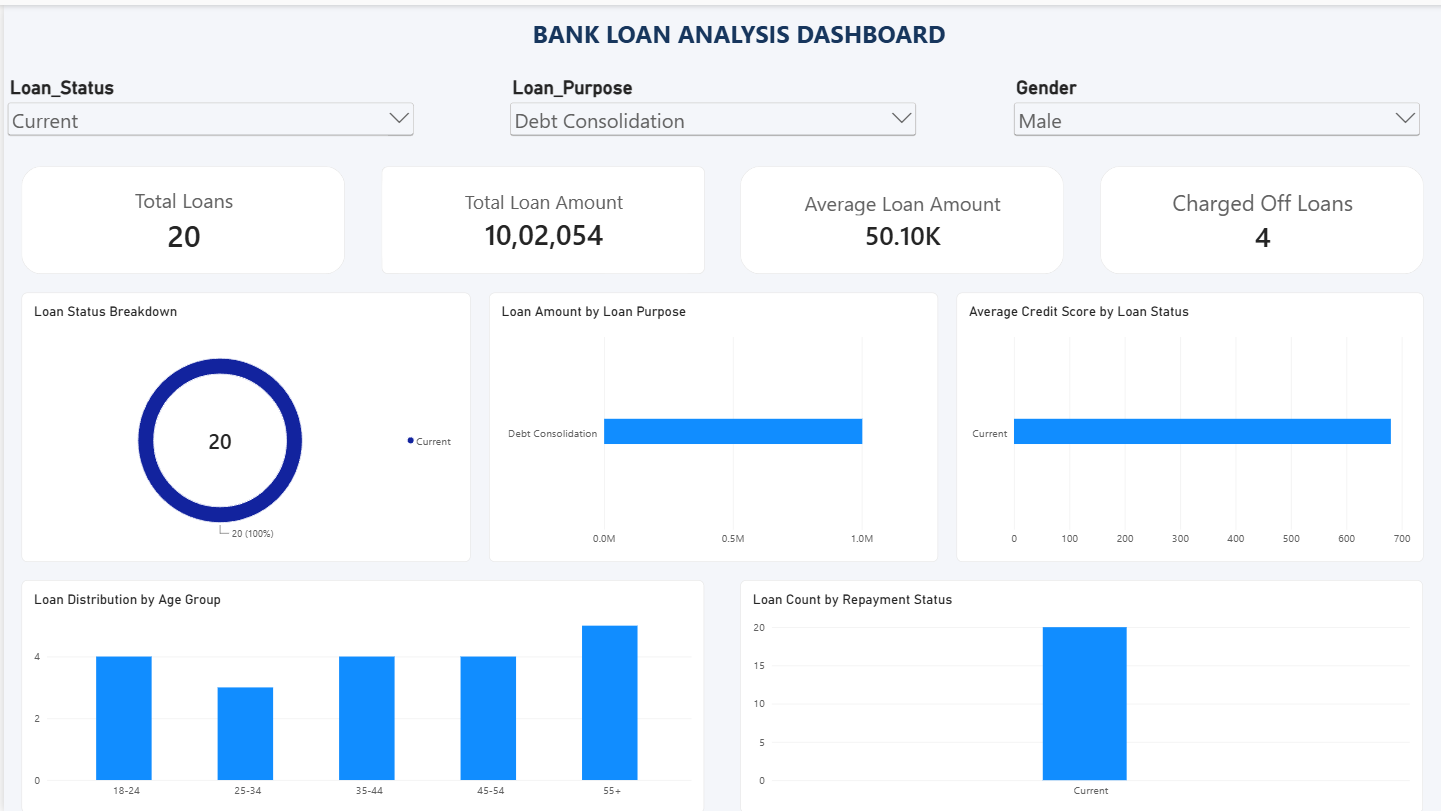

This screenshot's page, from the dashboard's own definition file:
{"tool":"powerbi","page":{"name":"Page 1","canvas":[1920,1080],"ordinal":0},"visuals":[{"type":"cardVisual","fields":{"Data":["Clean_Bank_Loan_Data.Total Loans"]},"box":[24,216,432,144],"z":0},{"type":"cardVisual","fields":{"Data":["Clean_Bank_Loan_Data.Total Loan Amount"]},"box":[504,216,432,144],"z":1},{"type":"cardVisual","fields":{"Data":["Clean_Bank_Loan_Data.Average Loan Amount"]},"box":[984,216,432,144],"z":2},{"type":"cardVisual","fields":{"Data":["Clean_Bank_Loan_Data.Charged Off Loans"]},"box":[1464,216,432,144],"z":3},{"type":"donutChart","title":"Loan Status Breakdown","fields":{"Category":["Clean_Bank_Loan_Data.Loan_Status"],"Y":["CountNonNull(Clean_Bank_Loan_Data.Loan_ID)"]},"box":[24,384,600,360],"z":4},{"type":"clusteredBarChart","title":"Loan Amount by Loan Purpose","fields":{"Category":["Clean_Bank_Loan_Data.Loan_Purpose"],"Y":["Sum(Clean_Bank_Loan_Data.Loan_Amount)"]},"box":[648,384,600,360],"z":5},{"type":"clusteredColumnChart","title":"Loan Count by Repayment Status","fields":{"Category":["Clean_Bank_Loan_Data.Loan_Status"],"Y":["CountNonNull(Clean_Bank_Loan_Data.Loan_ID)"]},"box":[983.5,768.1,911.7,312.2],"z":6},{"type":"clusteredBarChart","title":"Average Credit Score by Loan Status","fields":{"Category":["Clean_Bank_Loan_Data.Loan_Status"],"Y":["Avg(Clean_Bank_Loan_Data.Credit_Score)"]},"box":[1272,384,624,360],"z":7},{"type":"clusteredColumnChart","title":"Loan Distribution by Age Group","fields":{"Category":["Clean_Bank_Loan_Data.Age Group","Clean_Bank_Loan_Data.Age Group Sort"],"Y":["CountNonNull(Clean_Bank_Loan_Data.Loan_ID)"]},"box":[24,768,912,312],"z":8},{"type":"slicer","fields":{"Values":["Clean_Bank_Loan_Data.Gender"]},"box":[1344,96,552,96],"z":9},{"type":"slicer","fields":{"Values":["Clean_Bank_Loan_Data.Loan_Purpose"]},"box":[672,96,552,96],"z":10},{"type":"slicer","fields":{"Values":["Clean_Bank_Loan_Data.Loan_Status"]},"box":[0,96,552,96],"z":11},{"type":"textbox","box":[661.2,16.7,641.2,73.5],"z":12}]}

Visuals, with their boxes in screenshot pixels (x1, y1, x2, y2), scaled from the page's 1920x1080 canvas onto the 1441x811 screenshot:
cardVisual - Clean_Bank_Loan_Data.Total Loans: left=18, top=162, right=342, bottom=270
cardVisual - Clean_Bank_Loan_Data.Total Loan Amount: left=378, top=162, right=702, bottom=270
cardVisual - Clean_Bank_Loan_Data.Average Loan Amount: left=739, top=162, right=1063, bottom=270
cardVisual - Clean_Bank_Loan_Data.Charged Off Loans: left=1099, top=162, right=1423, bottom=270
"Loan Status Breakdown" donutChart: left=18, top=288, right=468, bottom=559
"Loan Amount by Loan Purpose" clusteredBarChart: left=486, top=288, right=937, bottom=559
"Loan Count by Repayment Status" clusteredColumnChart: left=738, top=577, right=1422, bottom=810
"Average Credit Score by Loan Status" clusteredBarChart: left=955, top=288, right=1423, bottom=559
"Loan Distribution by Age Group" clusteredColumnChart: left=18, top=577, right=702, bottom=810
slicer - Clean_Bank_Loan_Data.Gender: left=1009, top=72, right=1423, bottom=144
slicer - Clean_Bank_Loan_Data.Loan_Purpose: left=504, top=72, right=919, bottom=144
slicer - Clean_Bank_Loan_Data.Loan_Status: left=0, top=72, right=414, bottom=144
textbox: left=496, top=13, right=977, bottom=68
